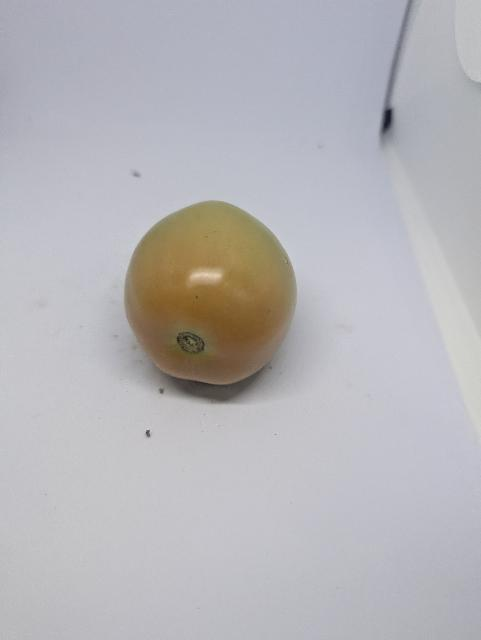breaker: (125, 201, 297, 384)
